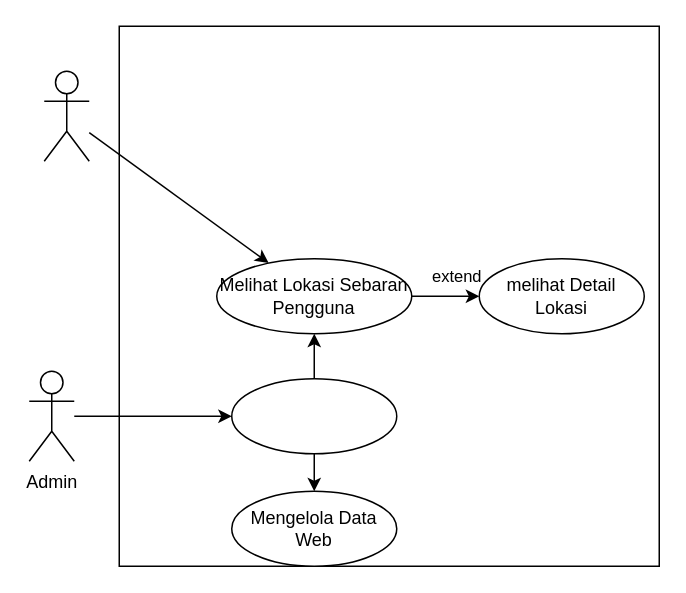
Some shapes in this 686 by 593 pixel diagram are drawn without their labels. Here are the shapes that lost their labels. From the top down, the centre of each, then its label:
At pixel 66 115: "User".
At pixel 313 415: "Login".
